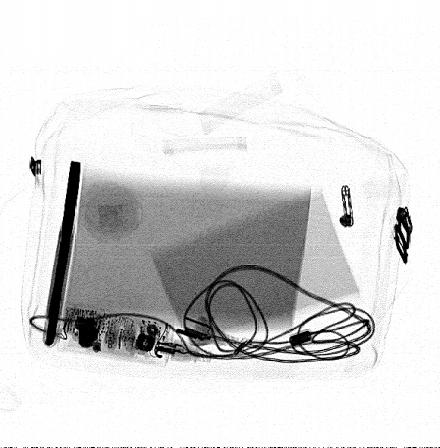Pliers: (46, 160, 81, 346)
